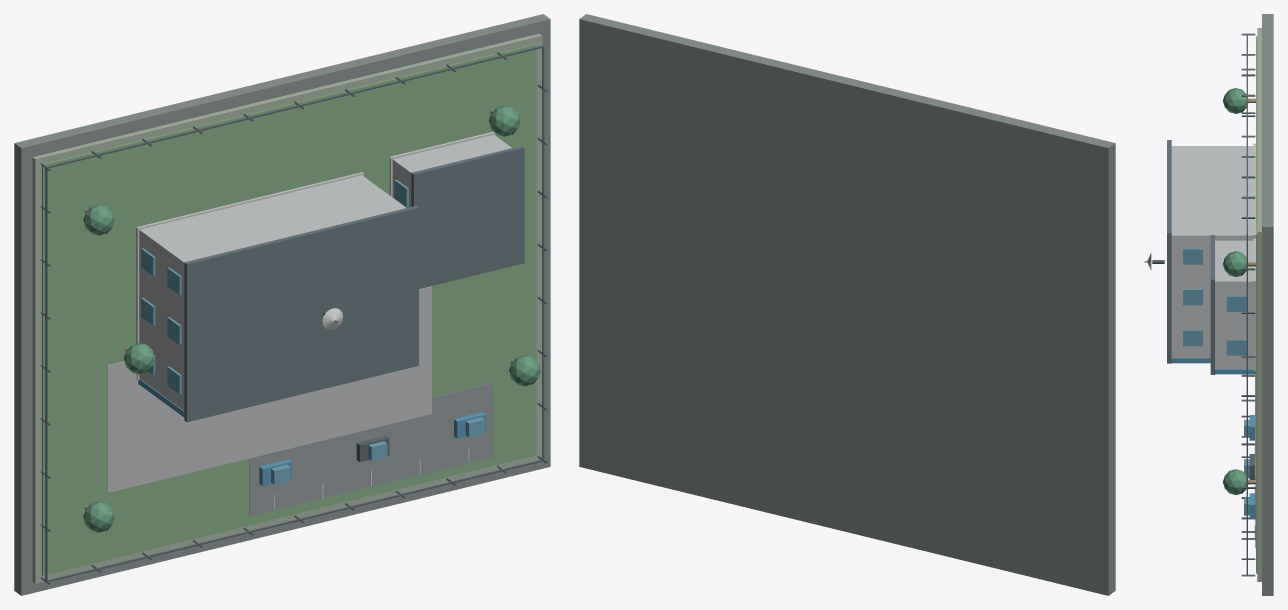
Rendered from scouting_office_level_2.glb.
3 views of the same model, side by side, from view 1: azimuth 30°, elevation 25°; view 2: azimuth 150°, elevation 25°; view 3: azimuth 270°, elevation 25° (orthographic). The views are drawn at different scales.
Visible parts, largest first — view 1: component_0002, component_0054, component_0000, component_0043, component_0001, component_0052, component_0117, component_0100, component_0098, component_0039, component_0040, component_0053 (+7 smaller); view 2: component_0000; view 3: component_0052, component_0000, component_0098, component_0001, component_0054, component_0002, component_0100, component_0042, component_0149, component_0147, component_0151, component_0040 (+9 smaller).
Part boxes in pixels (left/top/right/bottom): component_0002: left=42, top=44, right=536, bottom=575; component_0054: left=184, top=205, right=418, bottom=422; component_0000: left=14, top=14, right=550, bottom=595; component_0043: left=107, top=286, right=431, bottom=492; component_0001: left=32, top=33, right=542, bottom=583; component_0052: left=139, top=175, right=406, bottom=410; component_0117: left=249, top=383, right=492, bottom=516; component_0100: left=411, top=146, right=524, bottom=288; component_0098: left=392, top=134, right=511, bottom=207; component_0039: left=47, top=459, right=542, bottom=581; component_0040: left=47, top=45, right=543, bottom=168; component_0053: left=136, top=172, right=363, bottom=380; component_0000: left=579, top=14, right=1115, bottom=595; component_0052: left=1171, top=146, right=1253, bottom=357; component_0000: left=1262, top=14, right=1273, bottom=595; component_0098: left=1215, top=240, right=1253, bottom=368; component_0001: left=1257, top=28, right=1261, bottom=581; component_0054: left=1167, top=140, right=1171, bottom=363; component_0002: left=1256, top=36, right=1257, bottom=573; component_0100: left=1210, top=235, right=1214, bottom=374; component_0042: left=1246, top=234, right=1247, bottom=575; component_0149: left=1223, top=251, right=1248, bottom=276; component_0147: left=1223, top=88, right=1248, bottom=113; component_0151: left=1223, top=469, right=1248, bottom=494; component_0040: left=1246, top=34, right=1247, bottom=234.
Bounding box in the file's own units: 26.1 × 21.1 × 6.7.
